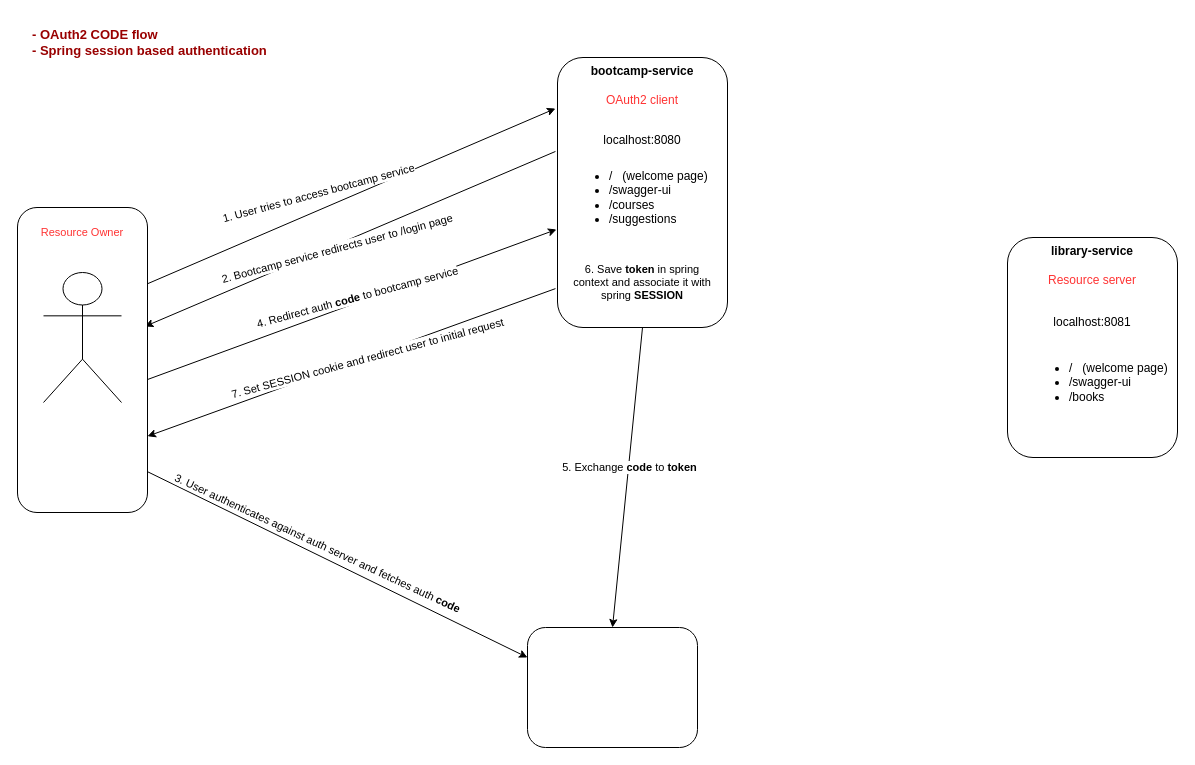
Image size: 1195x765. Some labels were removed from this diagram. Each missing label, with the centre of its shape:
bootcamp-auth-server Authorization server: the point at 612,687
User: the point at 82,337
